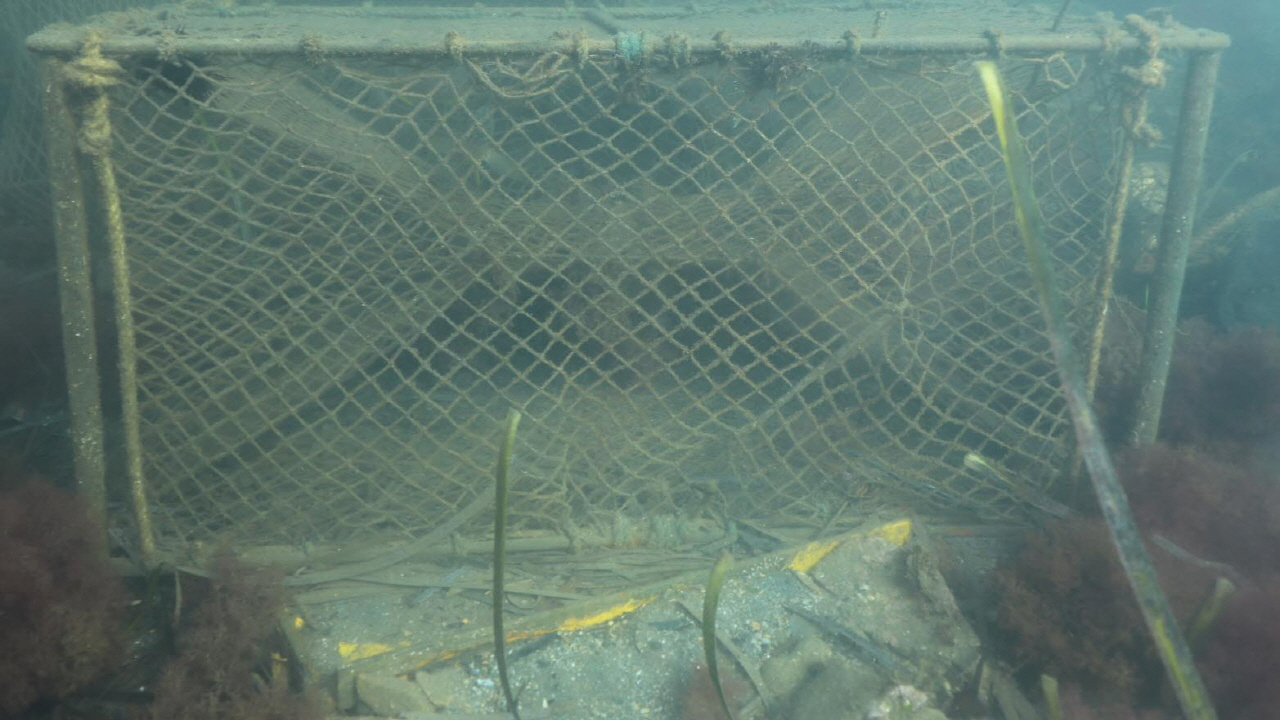rectangular fish trap: (26, 0, 1229, 575)
